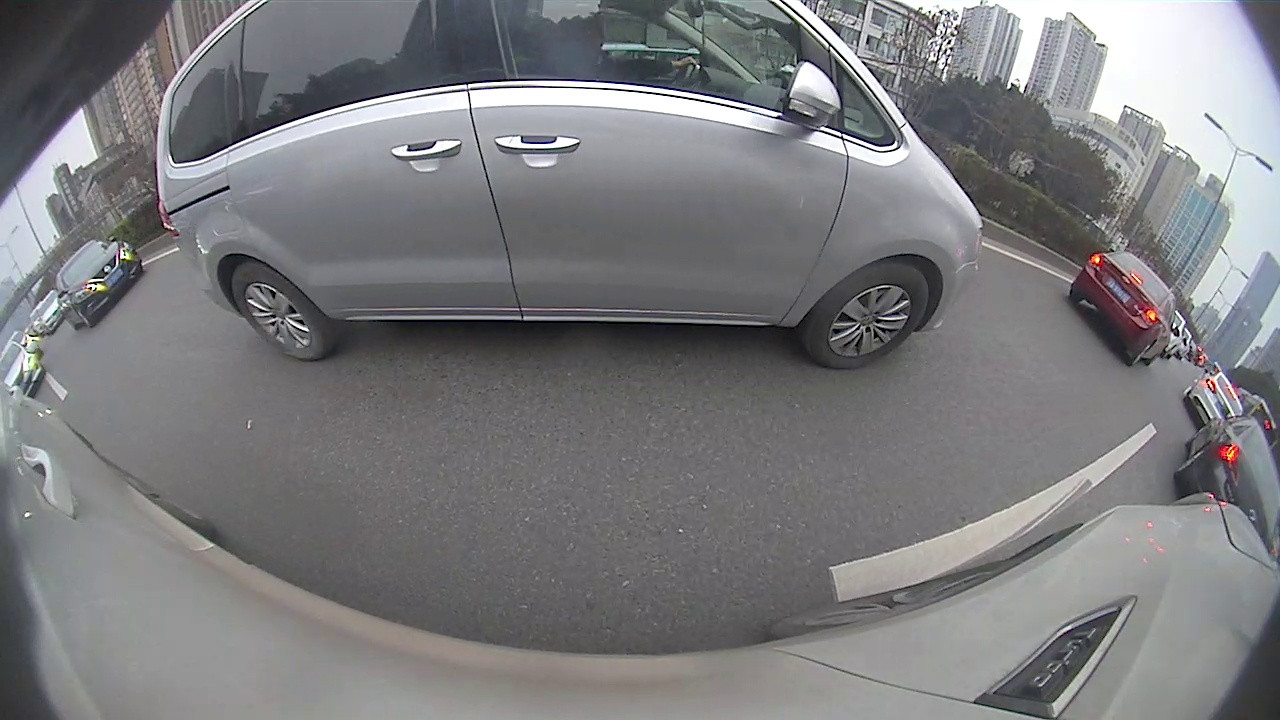car: (152, 1, 984, 372), (1171, 402, 1278, 544), (1067, 248, 1182, 370), (53, 236, 145, 330), (1183, 369, 1248, 427), (0, 340, 45, 402)
front: (803, 268, 933, 370)
rear: (230, 262, 332, 361)
